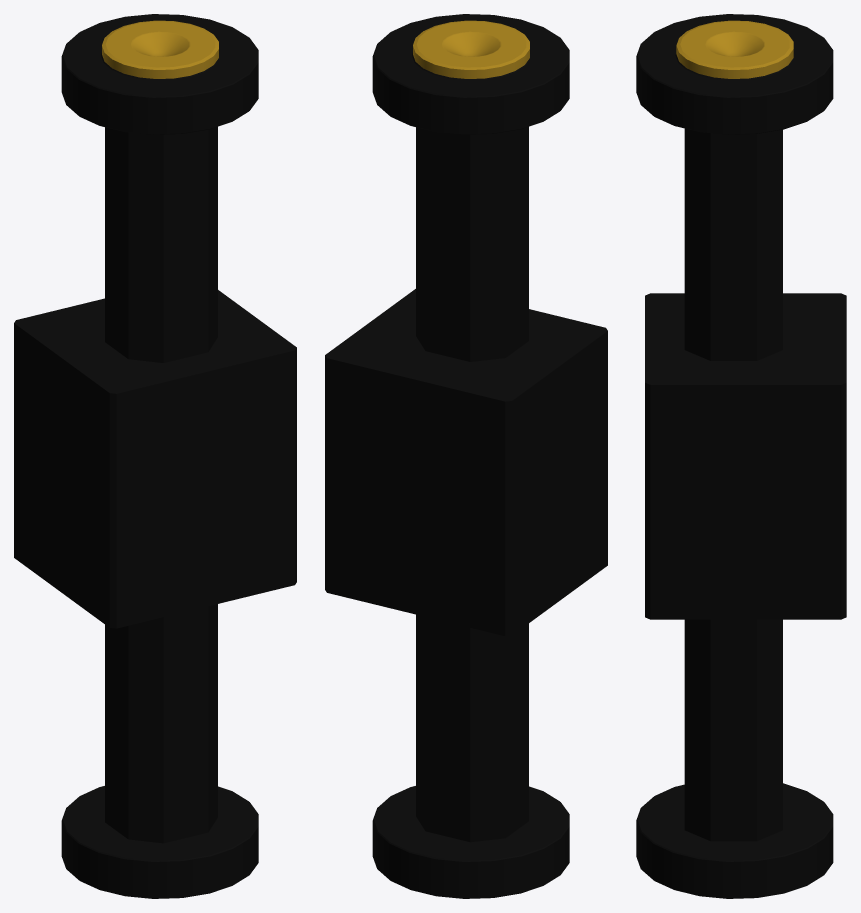
File: axle.obj
3 renders of one model, left to right at view 1: azimuth 30°, elevation 25°; view 2: azimuth 150°, elevation 25°; view 3: azimuth 270°, elevation 25°, orthographic.
Visible parts, largest first — view 1: Axle_0004, Axle_0003, Axle_0005, Axle_0002, Axle_0001; view 2: Axle_0004, Axle_0003, Axle_0005, Axle_0002, Axle_0001; view 3: Axle_0003, Axle_0005, Axle_0004, Axle_0002, Axle_0000.
Part boxes in pixels (x1,y1,x2,y2): Axle_0004: (116, 63, 296, 898); Axle_0003: (14, 56, 217, 895); Axle_0005: (14, 14, 296, 898); Axle_0002: (102, 20, 218, 69); Axle_0001: (139, 49, 218, 78); Axle_0004: (327, 69, 512, 898); Axle_0003: (325, 37, 607, 897); Axle_0005: (325, 14, 607, 898); Axle_0002: (413, 20, 529, 69); Axle_0001: (415, 53, 484, 78); Axle_0003: (650, 78, 846, 898); Axle_0005: (636, 14, 846, 898); Axle_0004: (636, 49, 833, 889); Axle_0002: (676, 20, 793, 69); Axle_0000: (698, 62, 778, 78).
Bounding box in the file's own units: 0.4178 × 1.76 × 0.4061.
